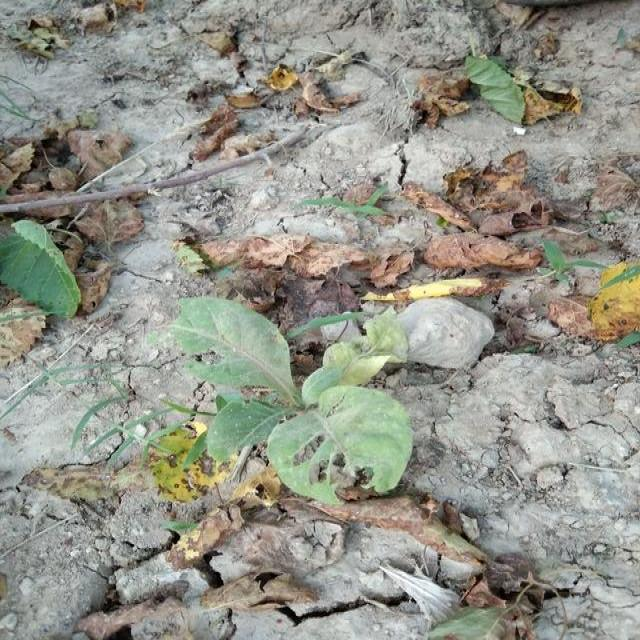crop: (178, 304, 412, 494)
